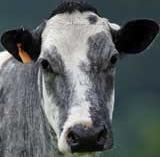muzzles: (53, 117, 118, 155)
